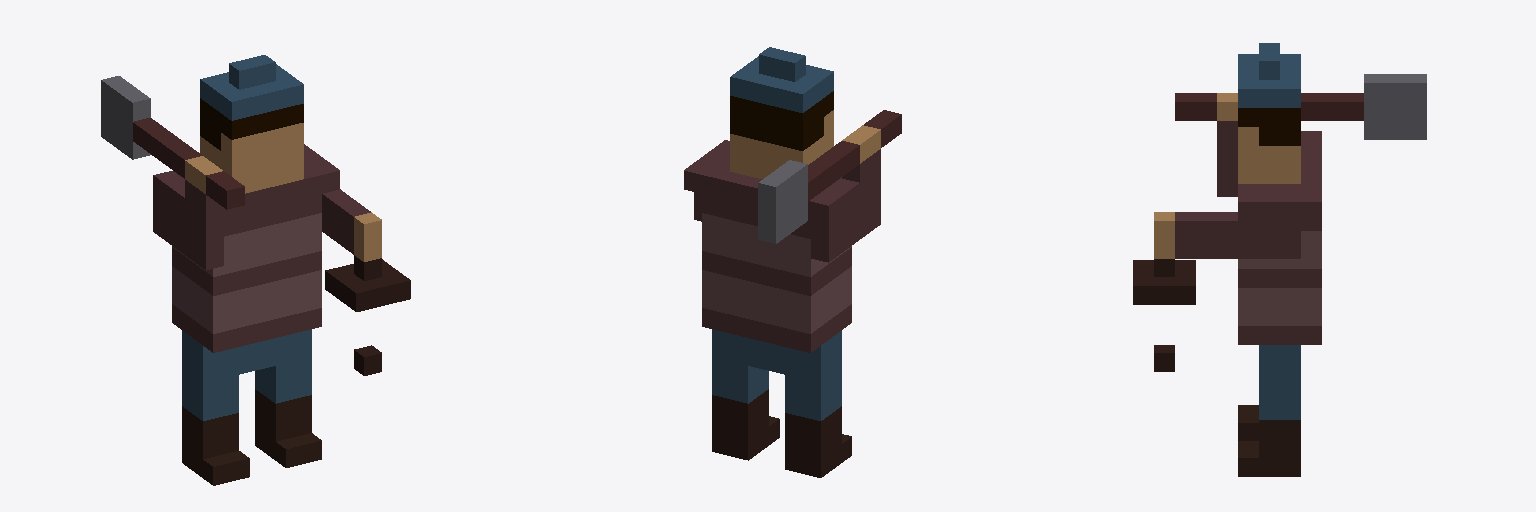
3 renders of one model, left to right at view 1: azimuth 30°, elevation 25°; view 2: azimuth 150°, elevation 25°; view 3: azimuth 270°, elevation 25°, orthographic.
Visible parts, largest first — view 1: Wizard_1; view 2: Wizard_1; view 3: Wizard_1.
Part boxes in pixels (x1,y1,x2,y2): Wizard_1: (101,55,410,485); Wizard_1: (684,47,901,477); Wizard_1: (1133,43,1426,476).
Bounding box in the file's own units: 9 × 21 × 14.
Materials: 1 (1 with a texture image).